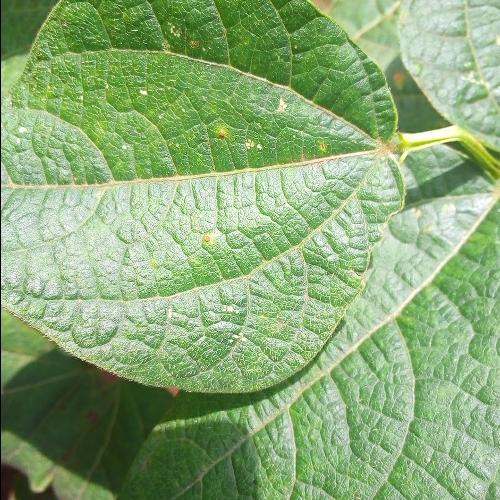mozaik: (54, 34, 327, 334), (199, 236, 488, 489)
